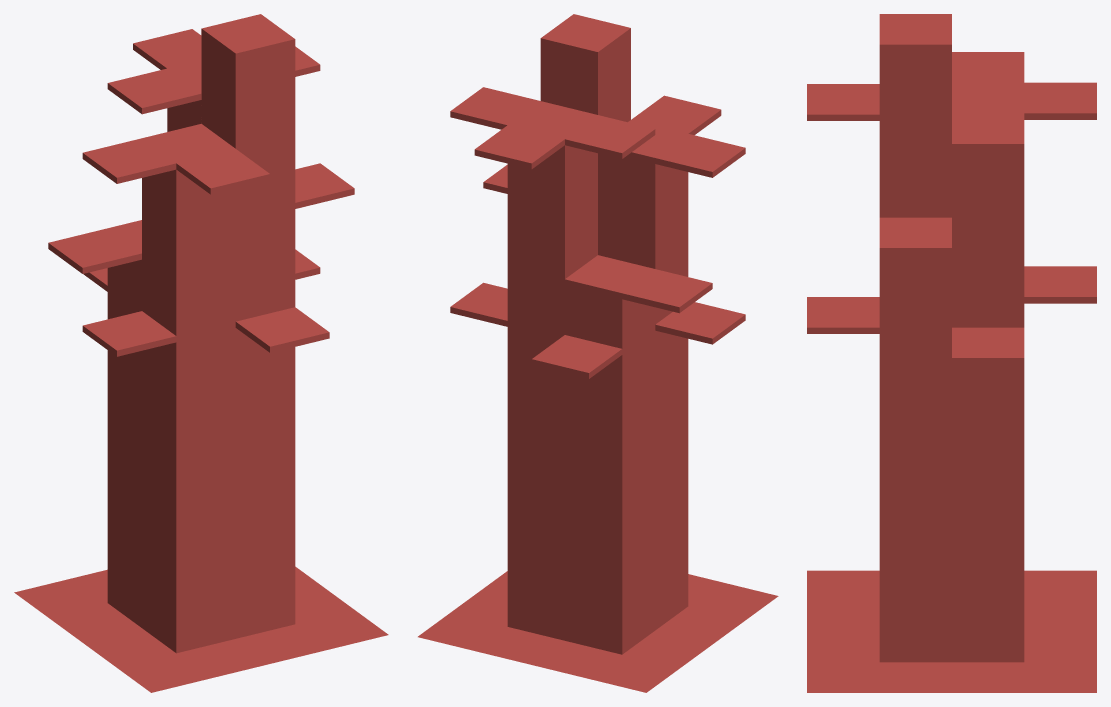
Rendered from 4x4 SkyPort.fbx.
3 views of the same model, side by side, from view 1: azimuth 30°, elevation 25°; view 2: azimuth 150°, elevation 25°; view 3: azimuth 270°, elevation 25° (orthographic). The views are drawn at different scales.
Visible parts, largest first — view 1: 4x4 SkyPort; view 2: 4x4 SkyPort; view 3: 4x4 SkyPort.
Part boxes in pixels (x1,y1,x2,y2): 4x4 SkyPort: (14,14,388,692); 4x4 SkyPort: (418,14,778,692); 4x4 SkyPort: (807,14,1096,692).
Bounding box in the file's own units: 4 × 9.41 × 4.
